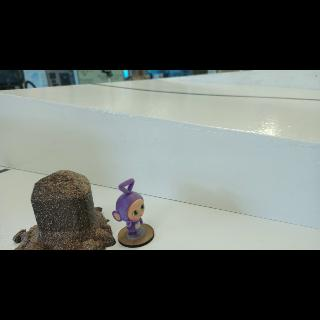teletubby: (112, 179, 145, 236)
